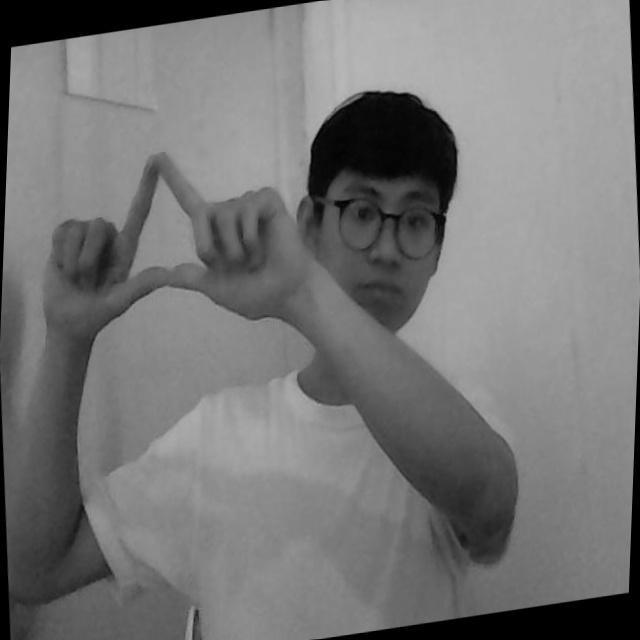A: (59, 142, 303, 328)
